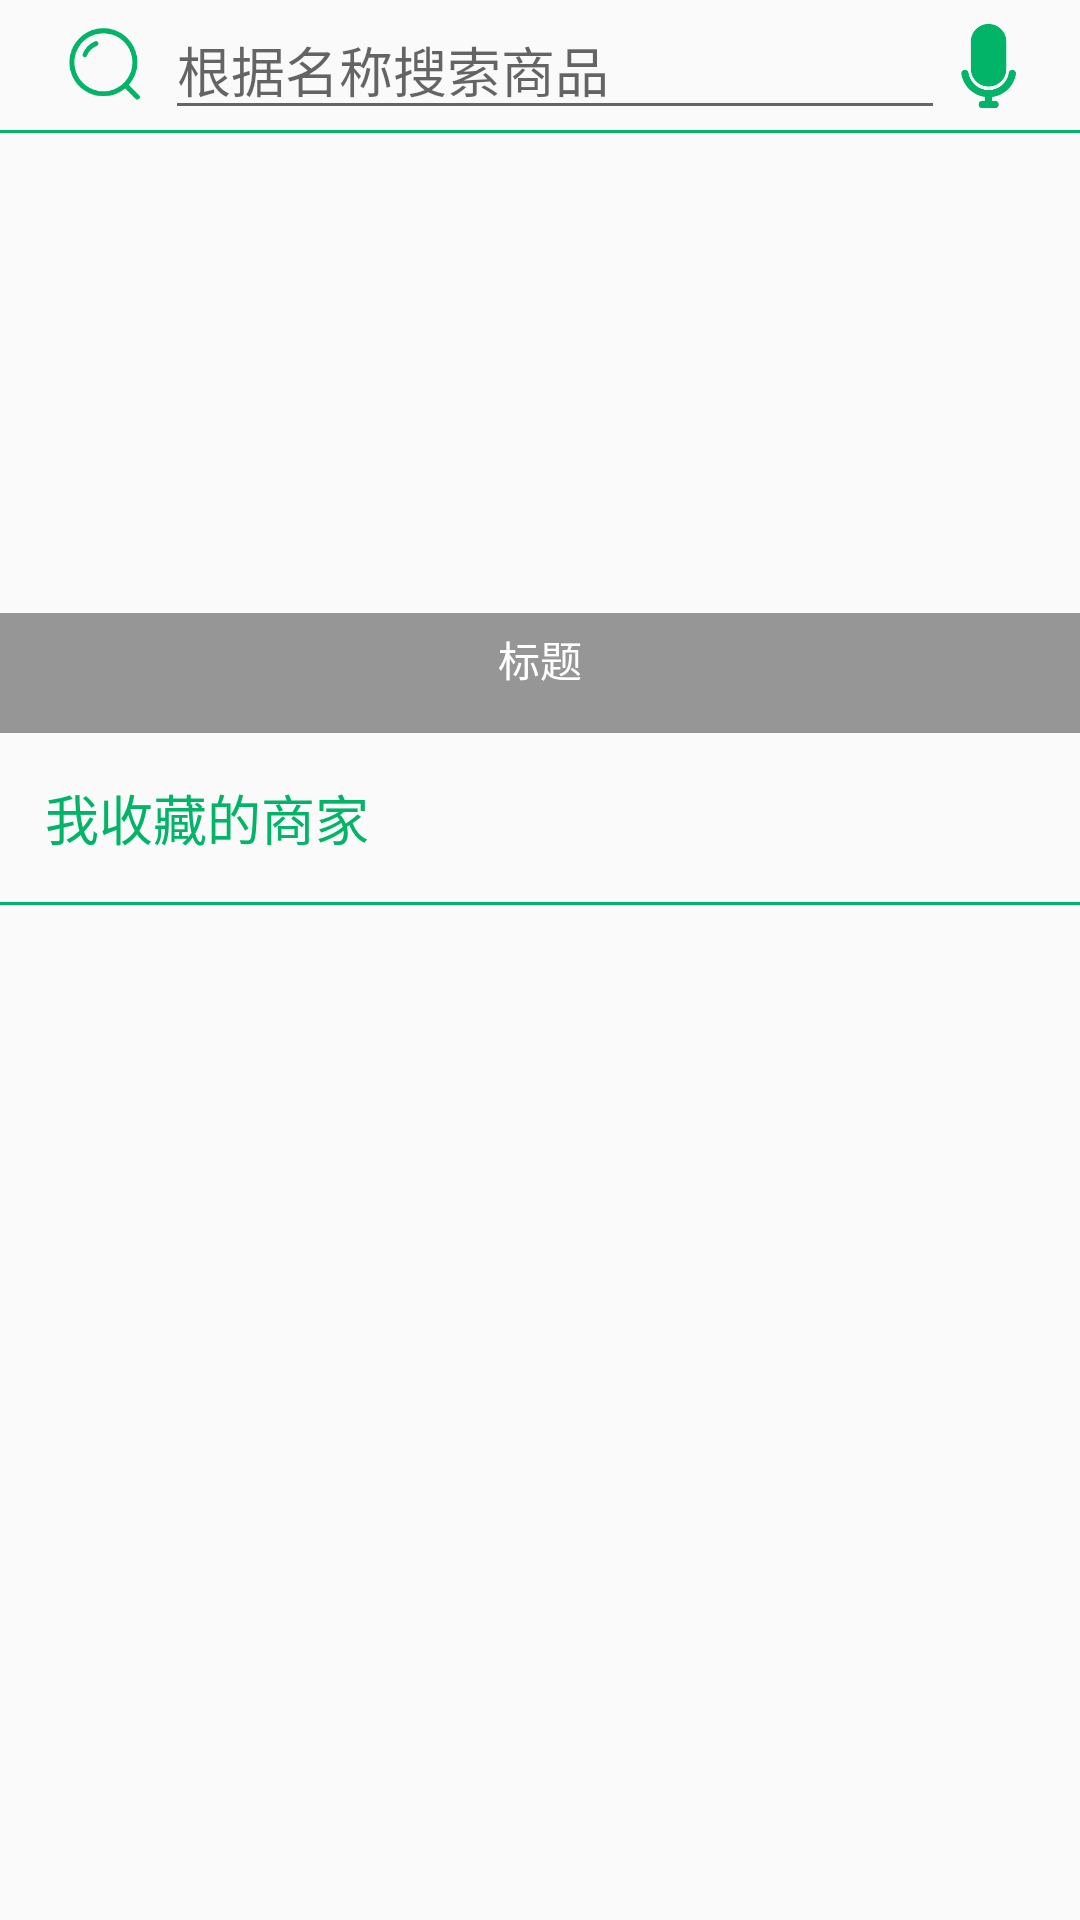

Named icons in this screenshot (1080x1920) and their bounding boxes, (x1, y1, x2, y2):
search: (69, 28, 140, 100)
voice: (961, 24, 1016, 108)
